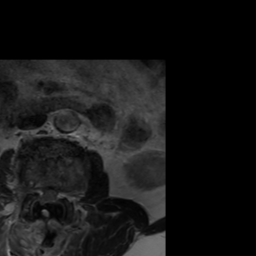CCS_severe_stenosis: (43, 183, 50, 210)
LFS_stenosis: (58, 182, 66, 207)
LLS_normal: (50, 182, 58, 209)
RFS_stenosis: (27, 176, 35, 200)
RLS_normal: (35, 180, 43, 208)
